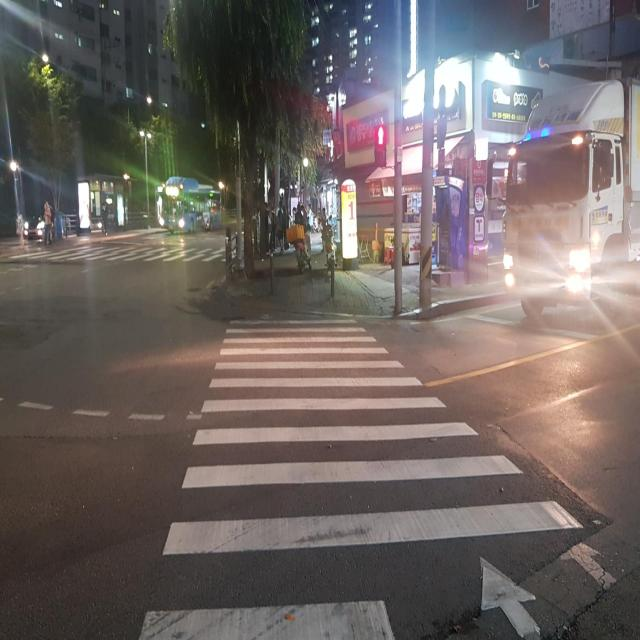빨간불: (374, 122, 386, 168)
횡단보도: (137, 308, 620, 638), (2, 237, 254, 265)
